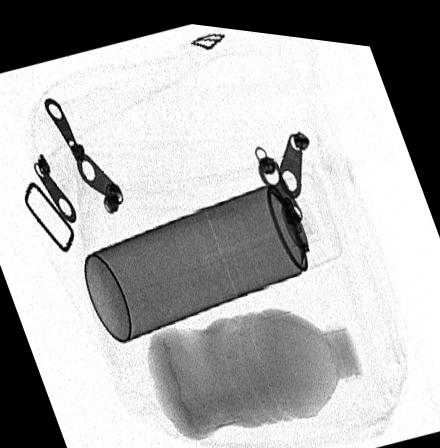Sprayer: (82, 163, 342, 339)
